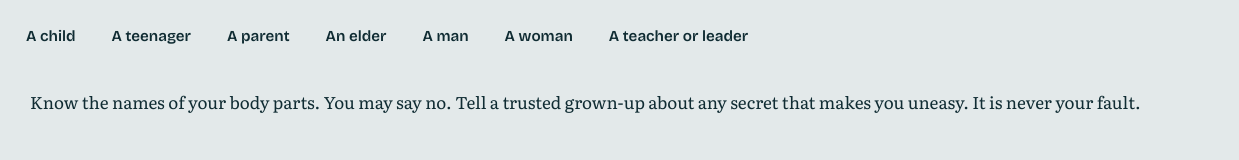
Test: block behaviour › selector shows the chosen option's content
What coordinates should you click on to do the following:
click the button "An elder"
I would click on:
 (356, 36)
Its box is 312,12 -> 400,60.
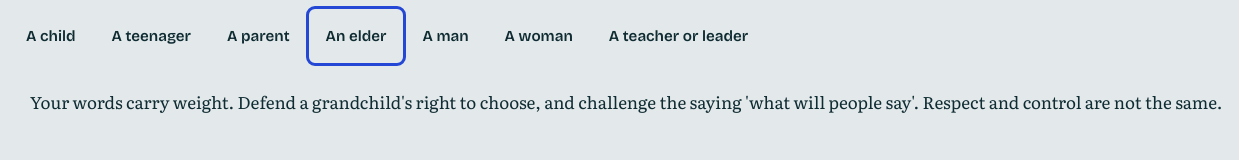
Expected: the text "Your words carry weight" is shown, 30,89 -> 1222,114
